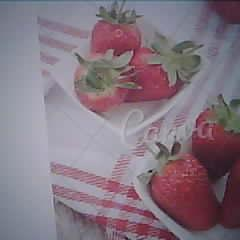straw-ripe: (151, 153, 218, 231)
